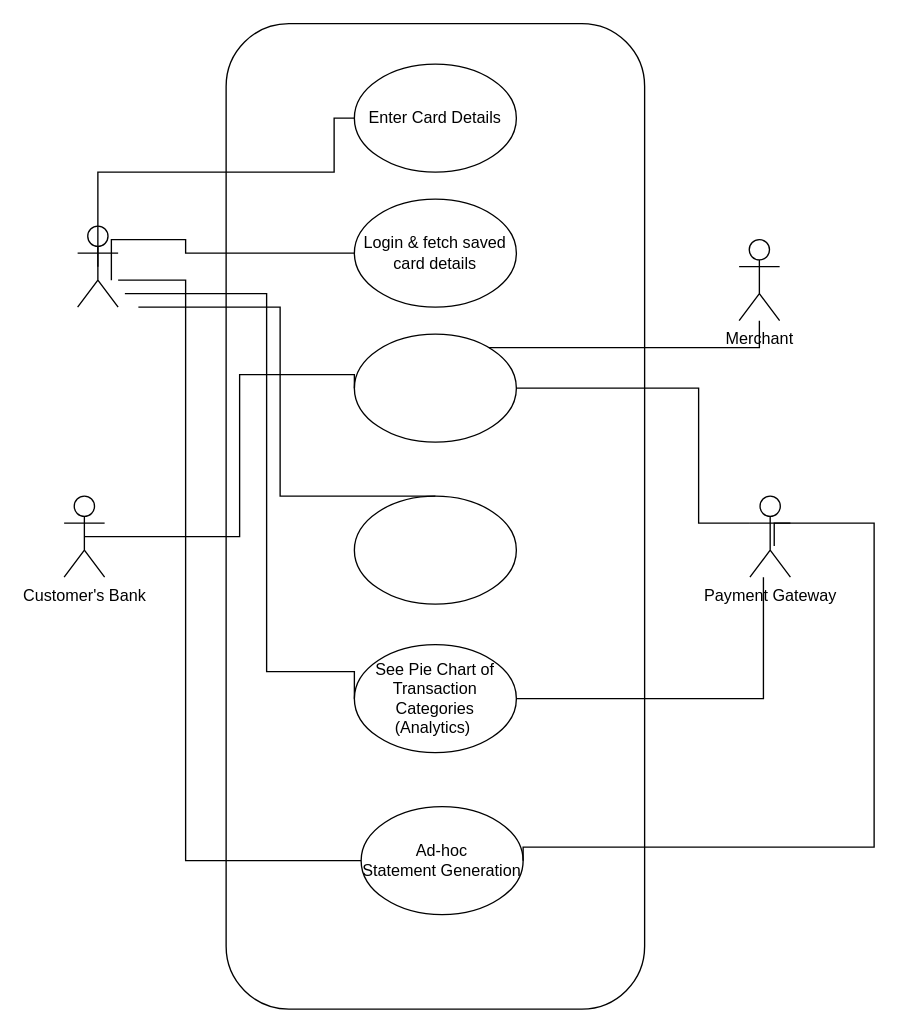
The diagram is 899 pixels wide and 1033 high, and some of its shapes have lost their labels. The shapes that lost their labels are listed below. From the top down, each one's centre as x and y in pixels, then its label:
At pixel 97 266: "Customer".
At pixel 434 387: "Confirm Payment (Transaction Processing)".
At pixel 434 549: "List Historical Cards with Money Flow widget".
